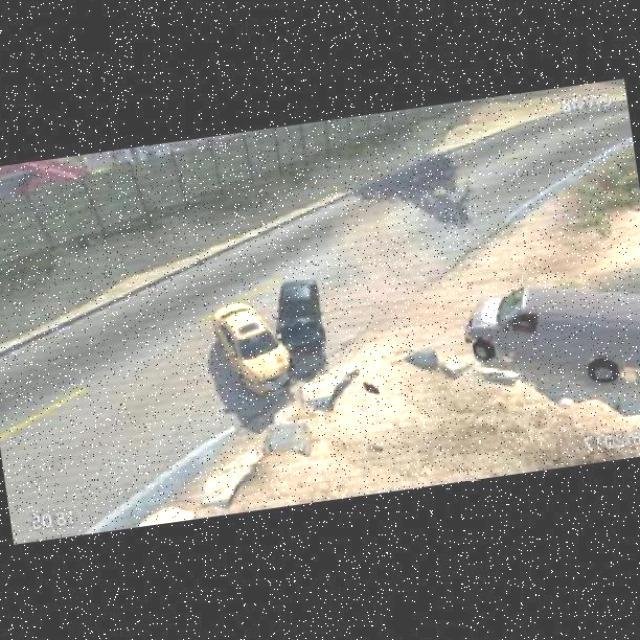accident: (208, 278, 349, 403)
